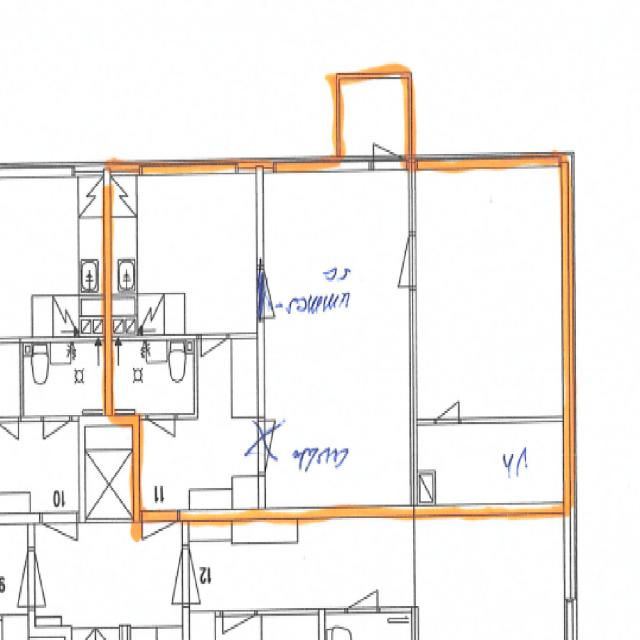door: (142, 507, 178, 576), (373, 104, 407, 175), (377, 235, 416, 286), (148, 413, 175, 465), (200, 334, 227, 382), (435, 381, 459, 424)
